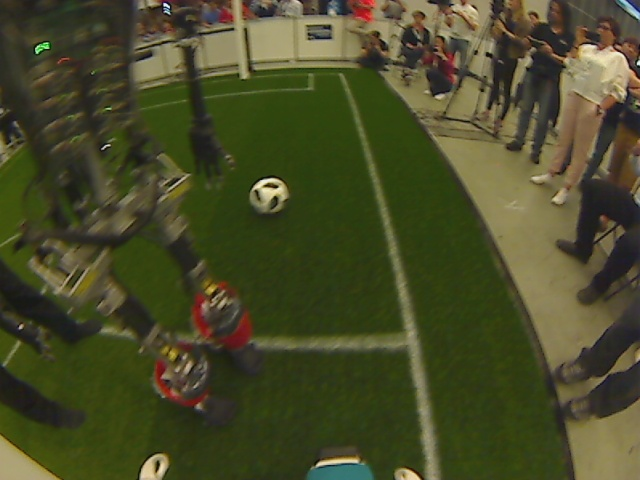ball: (246, 173, 288, 216)
